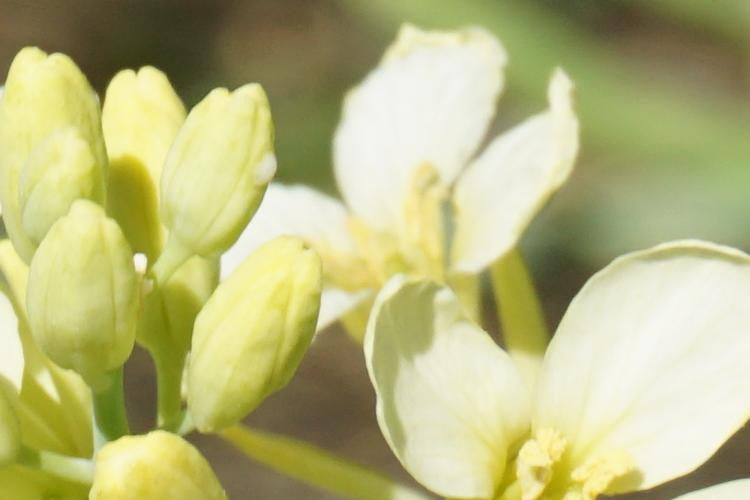bud: (196, 248, 329, 420), (30, 206, 139, 376), (13, 50, 113, 215), (102, 69, 203, 223), (176, 93, 270, 251), (82, 431, 227, 500)
white: (376, 243, 746, 500), (288, 34, 568, 297)
